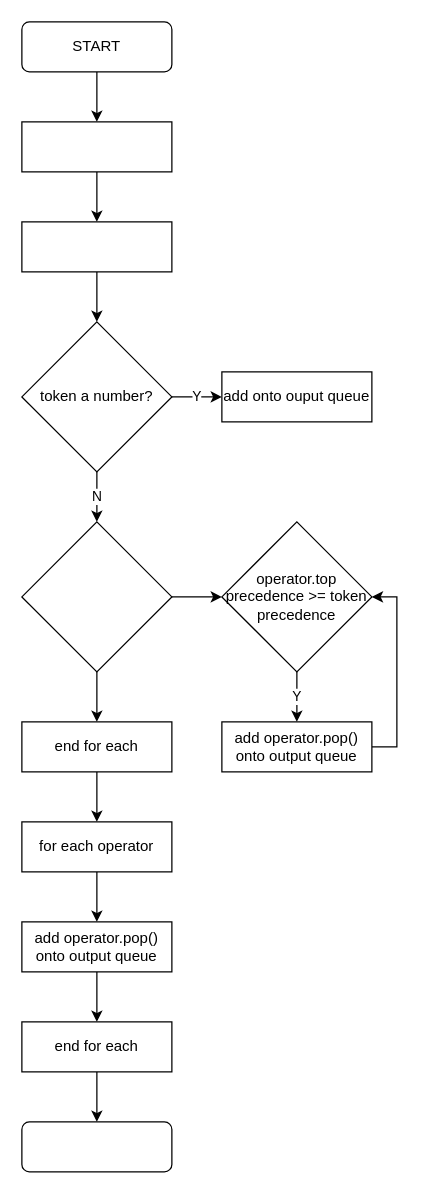
The diagram is 429 pixels wide and 1194 high, and some of its shapes have lost their labels. The shapes that lost their labels are listed below. From the top down, each one's box as (x1, y1, x2, y2) in pixels, then its label:
(21, 121, 172, 172): init output queue, operator stack
(21, 221, 172, 272): for each token
(21, 521, 172, 672): token a operator?
(21, 1121, 172, 1172): END
